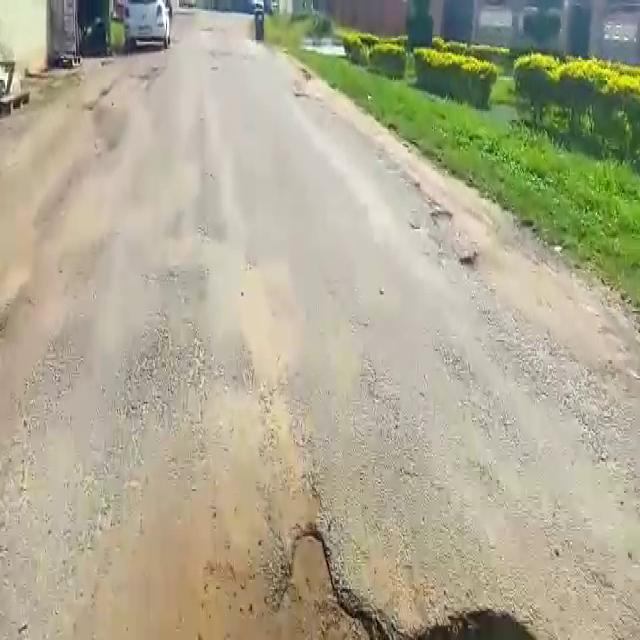Pothole: (205, 530, 541, 640)
